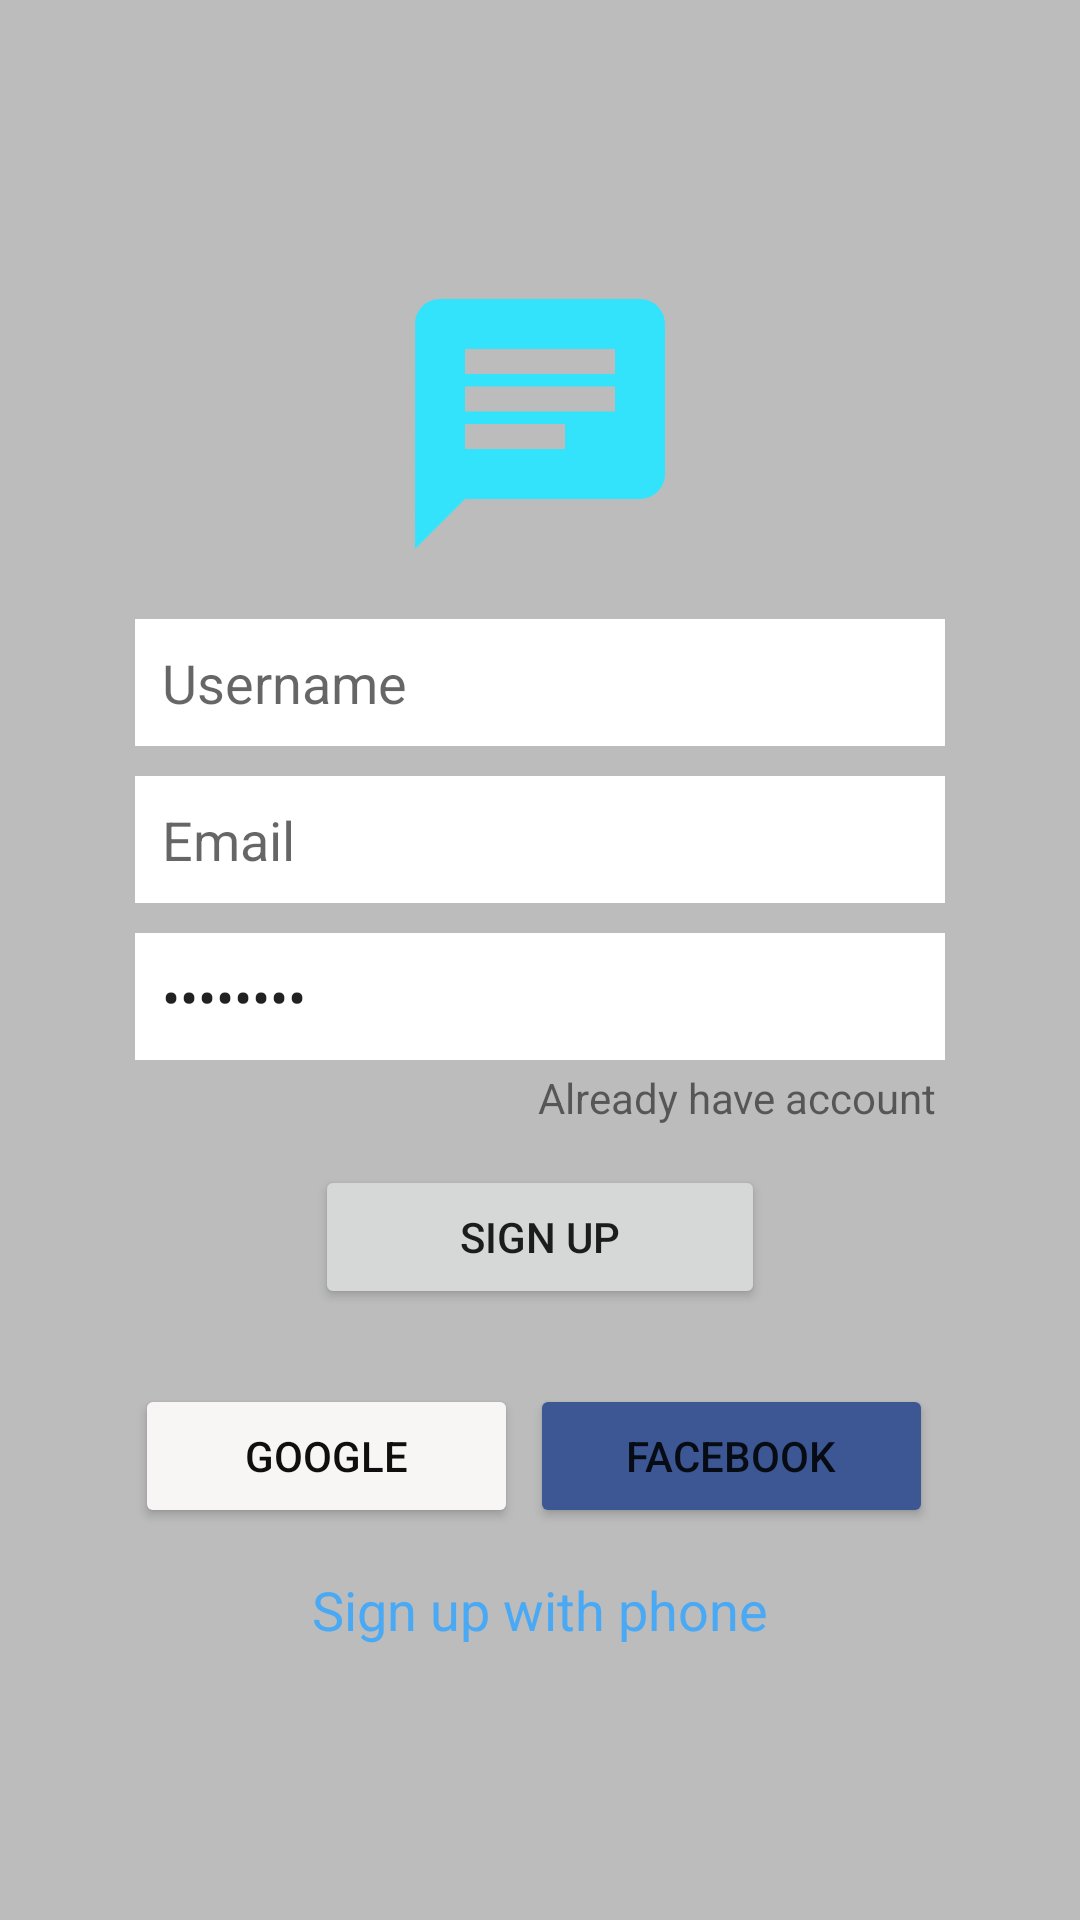

Icon bounding boxes for this 1080x1920 phone screenshot, format (x1, y1, x2, y2):
chat: (415, 299, 665, 549)
